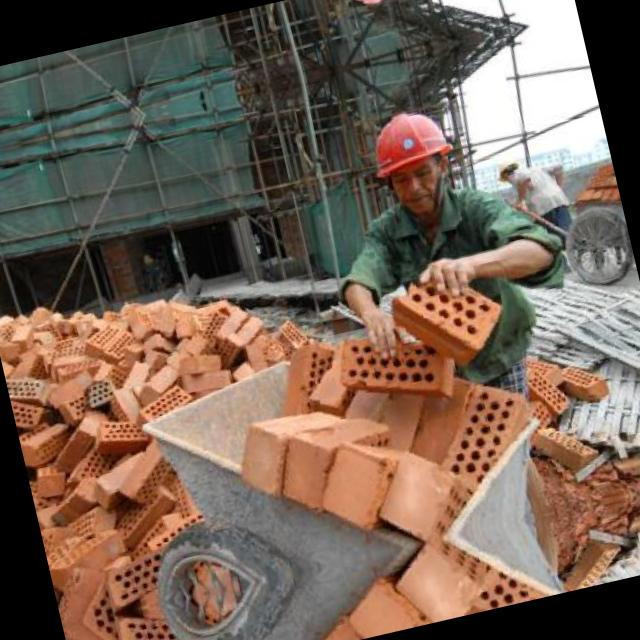helmet: (358, 98, 467, 222), (327, 0, 421, 20), (494, 152, 524, 183)
